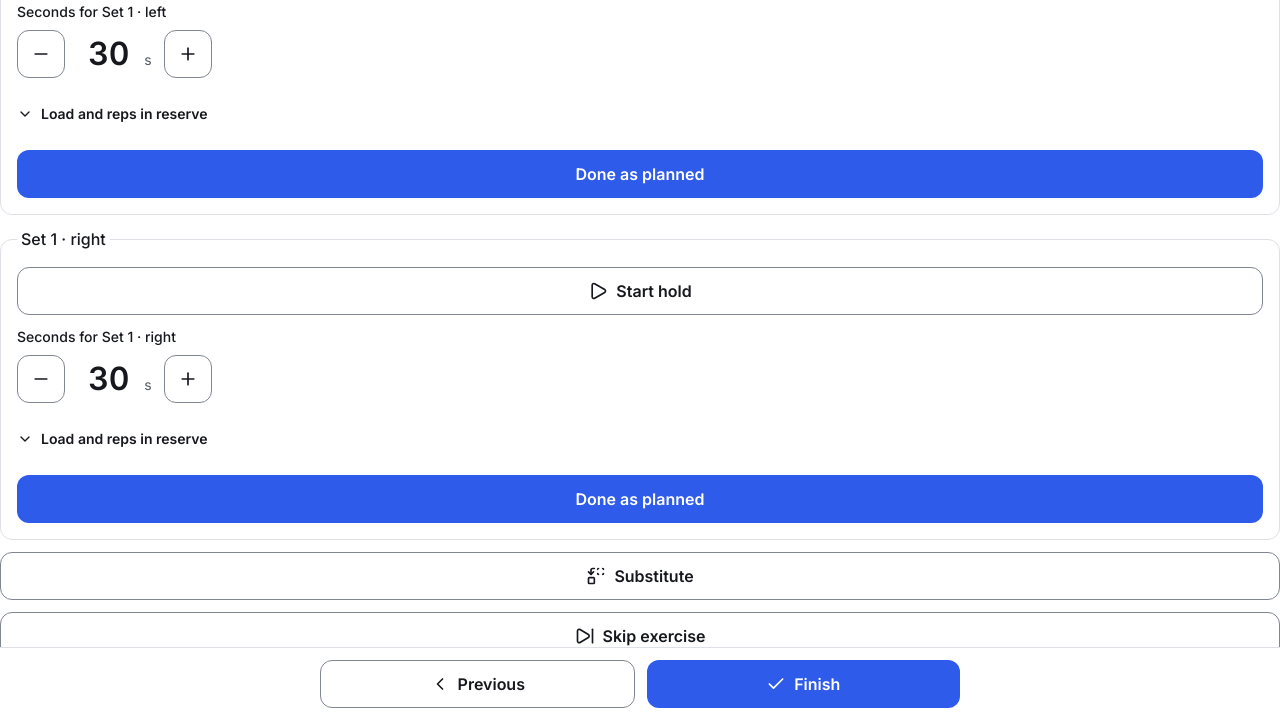
Test: WorkoutScreen substitutes (D40, D44) and load (D41) › D44: opens with the substitute of the last logged set; the sheet can be closed
(page scrolled)
Step 1. Click the button with aria-label "Substitute: Side plank" → click(640, 576), box [0,552,1279,600]
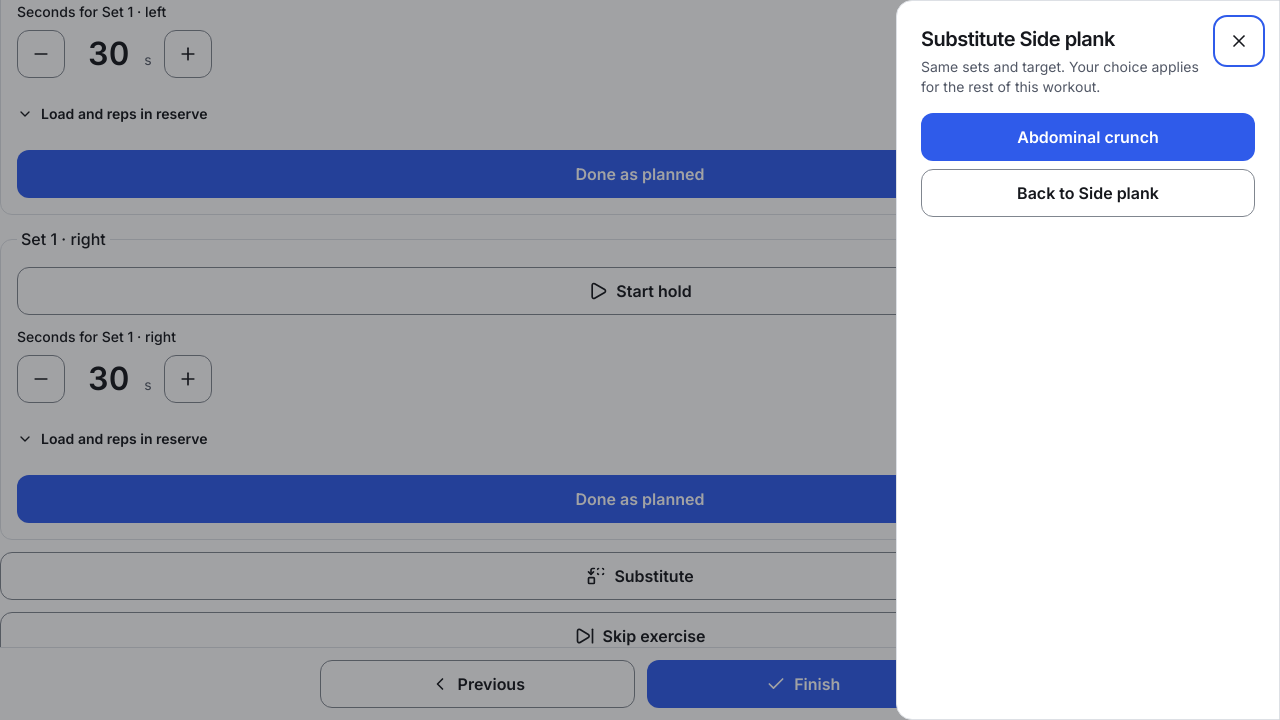
Step 2. Click the button named "Close" → click(1239, 41), box [1215,17,1263,65]
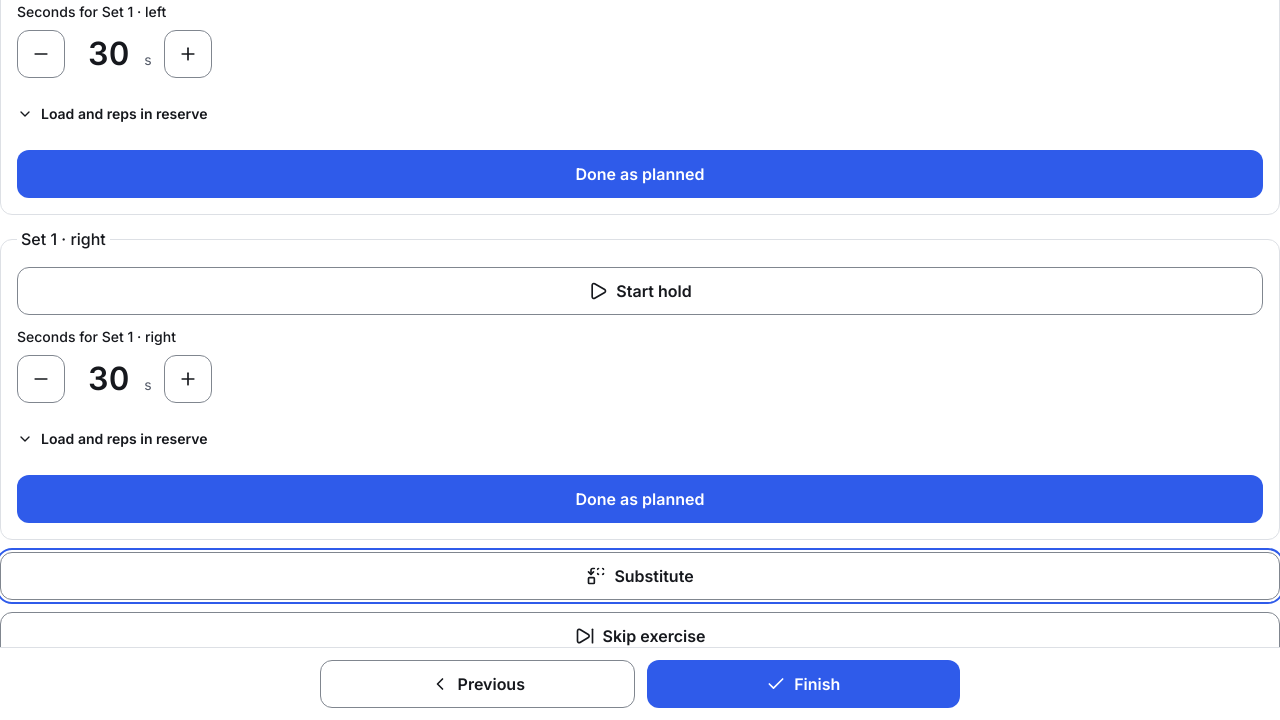
Check: the heading "Substitute Side plank" is gone
